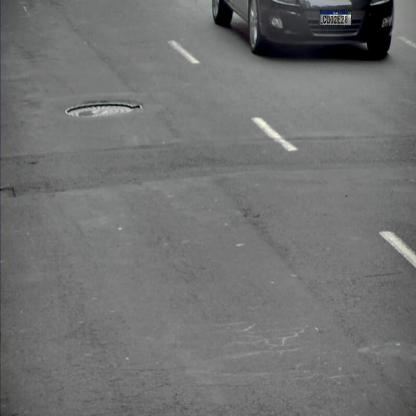PlacaM: (320, 10, 351, 26)
